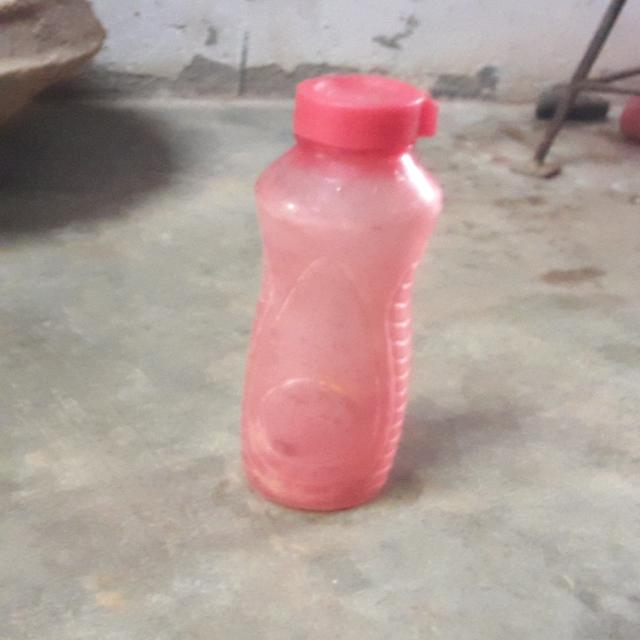bottle: (232, 68, 443, 516)
